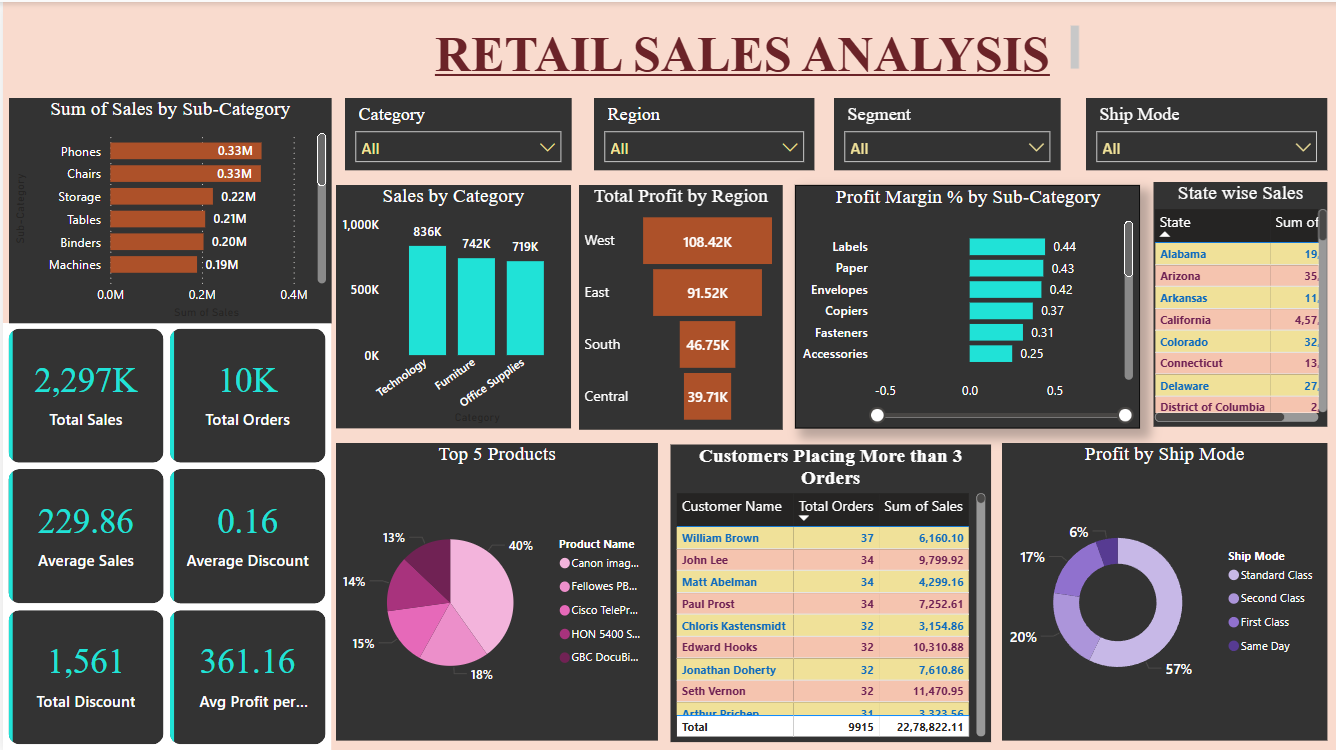

This screenshot's page, from the dashboard's own definition file:
{"tool":"powerbi","page":{"name":"Page 1","canvas":[1280,720],"ordinal":0},"visuals":[{"type":"cardVisual","fields":{"Data":["Retail_Orders.Sales","Retail_Orders.Total Orders","Retail_Orders.Average Sales","Retail_Orders.Average Discount","Retail_Orders.Total Discount","Retail_Orders.Avg Profit per Customer"]},"box":[0,307.8,314.9,411.3],"z":0},{"type":"columnChart","title":"Sales by Category","fields":{"Y":["Retail_Orders.Sales"],"Category":["Retail_Orders.Category"]},"box":[319.7,174.8,225.2,233.1],"z":1000},{"type":"pieChart","title":"Top 5 Products","fields":{"Category":["Retail_Orders.Product Name"],"Y":["Retail_Orders.Sales"]},"box":[319.7,422.1,308.7,285.1],"z":2000},{"type":"slicer","fields":{"Values":["Retail_Orders.Region"]},"box":[567,91.4,211.1,69.3],"z":3000},{"type":"slicer","fields":{"Values":["Retail_Orders.Category"]},"box":[327.6,91.4,217.4,69.3],"z":4000},{"type":"barChart","title":"Profit Margin % by Sub-Category","fields":{"Y":["Retail_Orders.Profit Margin Per"],"Category":["Retail_Orders.Sub-Category"]},"box":[759.2,174.8,330.8,233.1],"z":5000},{"type":"donutChart","title":"Profit by Ship Mode","fields":{"Category":["Retail_Orders.Ship Mode"],"Y":["Retail_Orders.Profit"]},"box":[957.6,422.1,311.9,285.1],"z":6000},{"type":"slicer","fields":{"Values":["Retail_Orders.Segment"]},"box":[797,91.4,217.4,69.3],"z":7000},{"type":"slicer","fields":{"Values":["Retail_Orders.Ship Mode"]},"box":[1038,91.4,231.5,69.3],"z":8000},{"type":"tableEx","title":"State wise Sales","fields":{"Values":["Retail_Orders.State","Retail_Orders.Sales"]},"box":[1102.6,173.3,167,234.7],"z":9000},{"type":"funnel","title":"Total Profit by Region","fields":{"Category":["Retail_Orders.Region"],"Y":["Retail_Orders.Profit"]},"box":[552.9,174.8,195.3,234.7],"z":10000},{"type":"barChart","fields":{"Y":["Retail_Orders.Sales"],"Category":["Retail_Orders.Sub-Category"]},"box":[5.8,92,309.2,215.7],"z":11000},{"type":"textbox","box":[388.7,17.7,648.4,58.1],"z":12000},{"type":"tableEx","title":"Customers Placing More than 3 Orders","fields":{"Values":["Retail_Orders.Customer Name","Retail_Orders.Total Orders","Retail_Orders.Sales"]},"box":[639.5,423.7,307.1,285.1],"z":12001}]}

Visuals, with their boxes in screenshot pixels (x1, y1, x2, y2), scaled from the page's 1280x720 canvas onto the 1336x750 screenshot:
cardVisual - Retail_Orders.Sales x Retail_Orders.Total Orders: bbox=[0, 321, 329, 749]
"Sales by Category" columnChart: bbox=[334, 182, 569, 425]
"Top 5 Products" pieChart: bbox=[334, 440, 656, 737]
slicer - Retail_Orders.Region: bbox=[592, 95, 812, 167]
slicer - Retail_Orders.Category: bbox=[342, 95, 569, 167]
"Profit Margin % by Sub-Category" barChart: bbox=[792, 182, 1138, 425]
"Profit by Ship Mode" donutChart: bbox=[999, 440, 1325, 737]
slicer - Retail_Orders.Segment: bbox=[832, 95, 1059, 167]
slicer - Retail_Orders.Ship Mode: bbox=[1083, 95, 1325, 167]
"State wise Sales" tableEx: bbox=[1151, 181, 1325, 425]
"Total Profit by Region" funnel: bbox=[577, 182, 781, 427]
barChart - Retail_Orders.Sales x Retail_Orders.Sub-Category: bbox=[6, 96, 329, 321]
textbox: bbox=[406, 18, 1082, 79]
"Customers Placing More than 3 Orders" tableEx: bbox=[667, 441, 988, 738]
